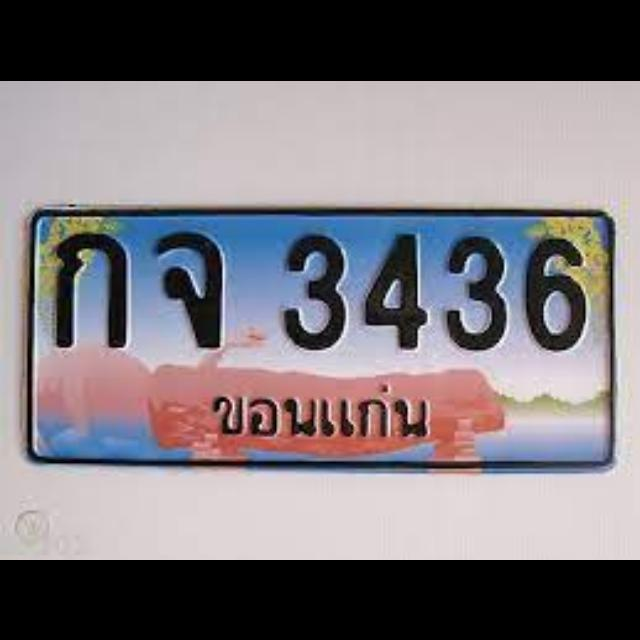licenseplate: (26, 203, 618, 474)
